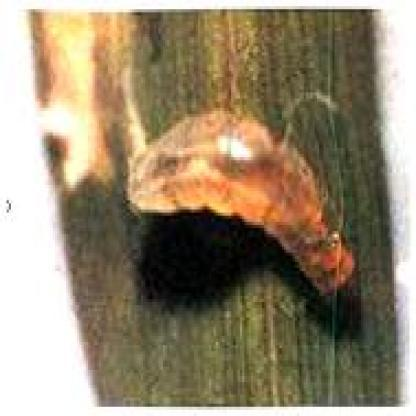whorl-maggot: (127, 104, 357, 308)
